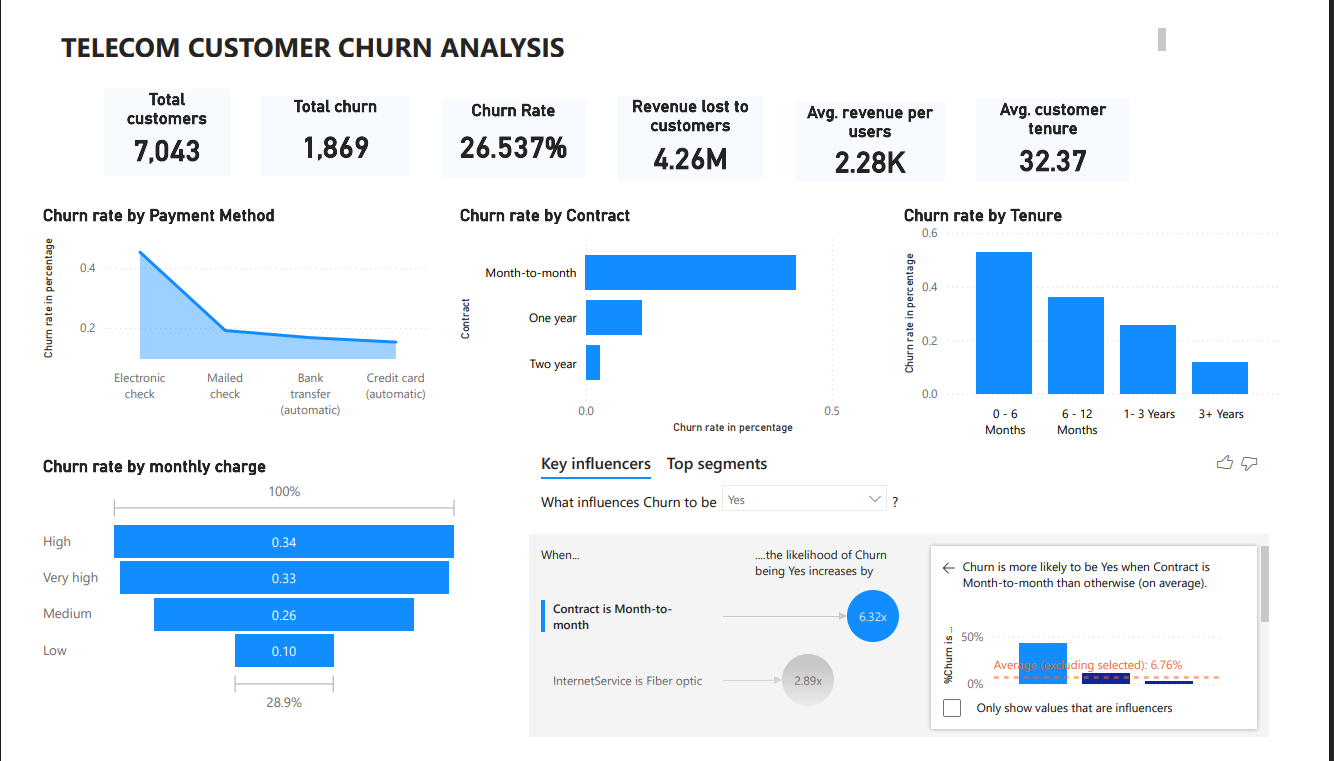

Layout of this report page (visuals, bound fields, positions):
{"tool":"powerbi","page":{"name":"Page 1","canvas":[1280,720],"ordinal":0},"visuals":[{"type":"card","title":"Churn Rate","fields":{"Values":["Telecom data.Churn rate in percentage"]},"box":[415.6,77.1,145.8,77.1],"z":0},{"type":"stackedAreaChart","title":"Churn rate  by Payment Method","fields":{"Category":["Telecom data.PaymentMethod"],"Y":["Telecom data.Churn rate in percentage"]},"box":[12.6,182.3,402.5,220.2],"z":1000},{"type":"card","title":"Total customers","fields":{"Values":["Count(Telecom data.customerID)"]},"box":[78.5,65.9,126.2,86.9],"z":2000},{"type":"card","title":"Total churn","fields":{"Values":["Telecom data.Total churn yes"]},"box":[235.9,72.9,148.6,79.9],"z":3000},{"type":"card","title":"Revenue lost to customers","fields":{"Values":["Telecom data.Revenue lost to churn"]},"box":[592.6,72.9,145.8,84.1],"z":4000},{"type":"card","title":"Avg. revenue per users","fields":{"Values":["Telecom data.AVRPU"]},"box":[769.6,78.5,150,79.9],"z":5000},{"type":"card","title":"Avg. customer tenure","fields":{"Values":["Telecom data.AVG. CUST TENURE"]},"box":[950.7,75.7,154.3,82.7],"z":6000},{"type":"clusteredBarChart","title":"Churn rate  by Contract","fields":{"Category":["Telecom data.Contract"],"Y":["Telecom data.Churn rate in percentage"]},"box":[430.5,182.3,438.9,234.2],"z":7000},{"type":"clusteredColumnChart","title":"Churn rate  by Tenure ","fields":{"Category":["Telecom data.Tenure sort"],"Y":["Telecom data.Churn rate in percentage"]},"box":[873.6,182.3,385.6,240],"z":8000},{"type":"funnel","title":"Churn rate by monthly charge","fields":{"Category":["Telecom data.monthly charge in group"],"Y":["Telecom data.Churn rate in percentage"]},"box":[12.6,433.3,426.3,260.8],"z":9000},{"type":"textbox","box":[30.9,0,1114.8,39.3],"z":10000},{"type":"keyDriversVisual","fields":{"Target":["Telecom data.Churn"],"ExplainBy":["Telecom data.InternetService","Telecom data.PaymentMethod","Telecom data.Tenure sort","Telecom data.Contract"]},"box":[499.2,416.5,750.2,302.9],"z":11000}]}

Visuals, with their boxes in screenshot pixels (x1, y1, x2, y2), scaled from the page's 1280x720 canvas onto the 1334x761 screenshot:
"Churn Rate" card: left=433, top=81, right=585, bottom=163
"Churn rate  by Payment Method" stackedAreaChart: left=13, top=193, right=433, bottom=425
"Total customers" card: left=82, top=70, right=213, bottom=162
"Total churn" card: left=246, top=77, right=401, bottom=162
"Revenue lost to customers" card: left=618, top=77, right=770, bottom=166
"Avg. revenue per users" card: left=802, top=83, right=958, bottom=167
"Avg. customer tenure" card: left=991, top=80, right=1152, bottom=167
"Churn rate  by Contract" clusteredBarChart: left=449, top=193, right=906, bottom=440
"Churn rate  by Tenure " clusteredColumnChart: left=910, top=193, right=1312, bottom=446
"Churn rate by monthly charge" funnel: left=13, top=458, right=457, bottom=734
textbox: left=32, top=0, right=1194, bottom=42
keyDriversVisual - Telecom data.Churn x Telecom data.InternetService: left=520, top=440, right=1302, bottom=760
